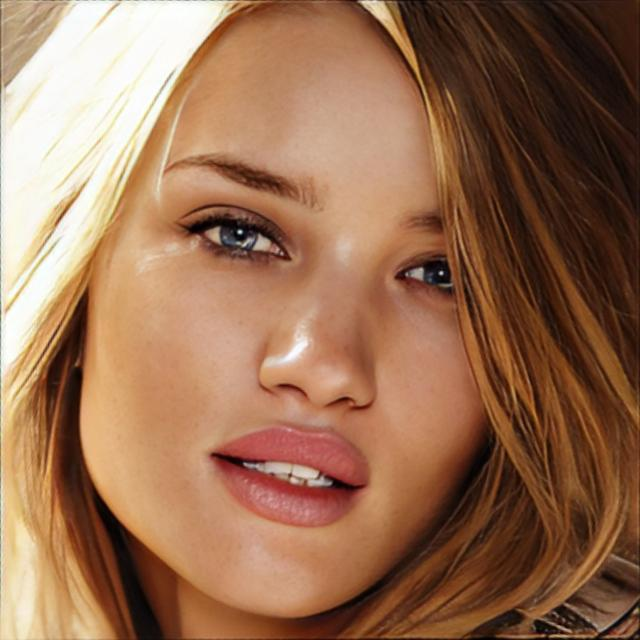neutral: (77, 0, 492, 621)
